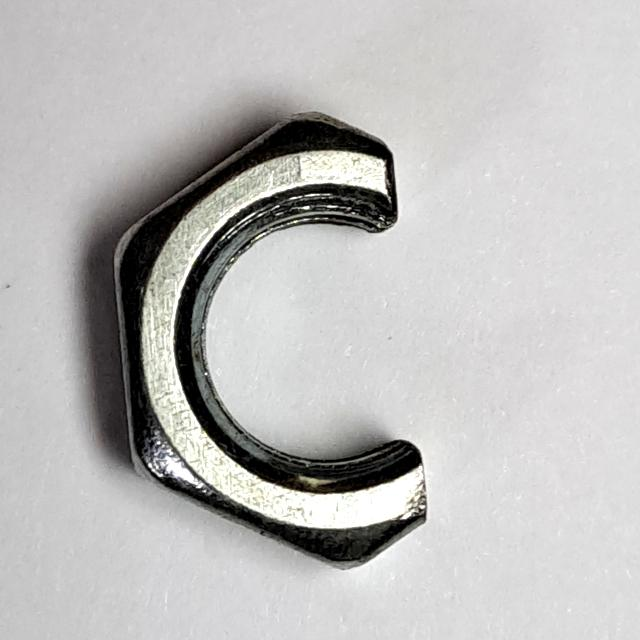Fracture: (104, 98, 483, 587)
